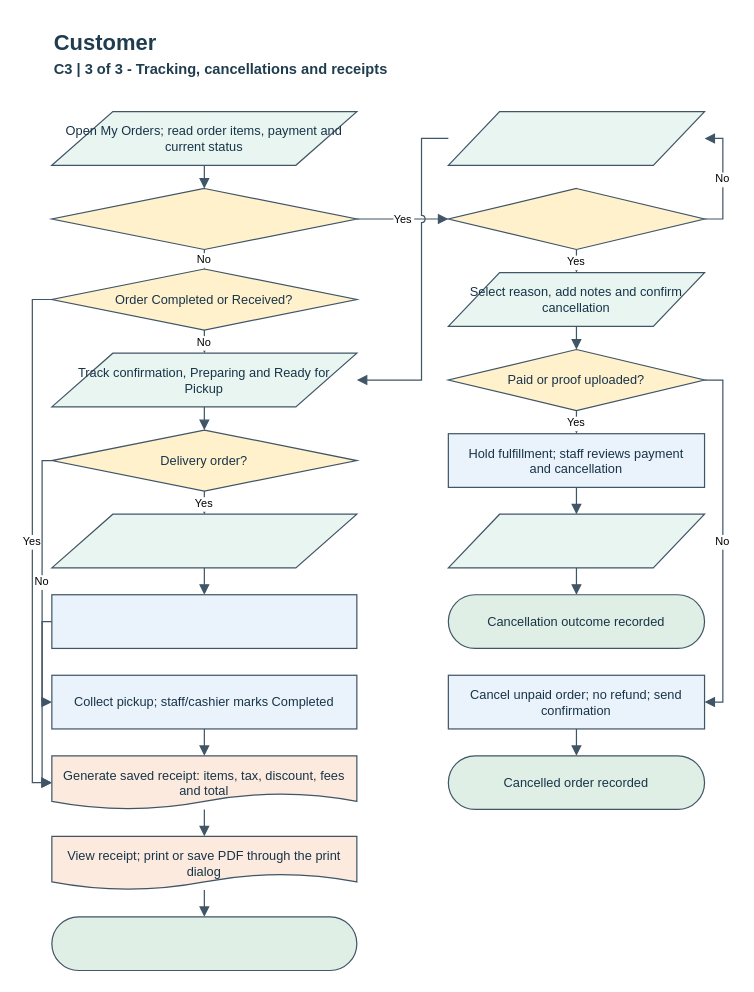
Some shapes in this 754 by 992 pixel diagram are drawn without their labels. The centre of each missing label's shape, as x and y in pixels:
Cancellation unavailable; return to order tracking: [576,137]
End: completed transaction: [204,943]
Pay COD if due; confirm receipt; save Received and COD paid: [204,621]
Pending and not already on hold?: [576,218]
Read approval/rejection and any pending refund; receive email: [576,540]
Request cancellation?: [204,218]
View Out for Delivery and tracking link; receive the order: [204,540]
